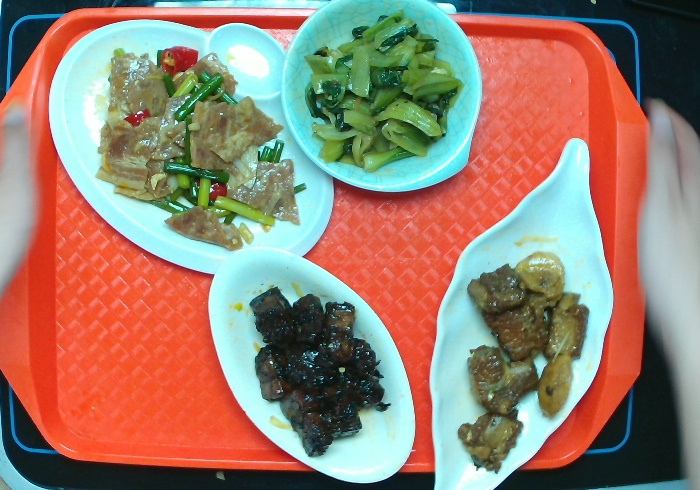RJxy-Bai_Se_Tuo_Yuan: (206, 245, 418, 485)
RJxy-Shu_Ye_Pan: (427, 137, 615, 490)
RJxy-Xiao_Jiao_Yuan_Wan: (279, 1, 484, 193)
RJxy-Zhan_Liao_Pan: (47, 17, 337, 276)
